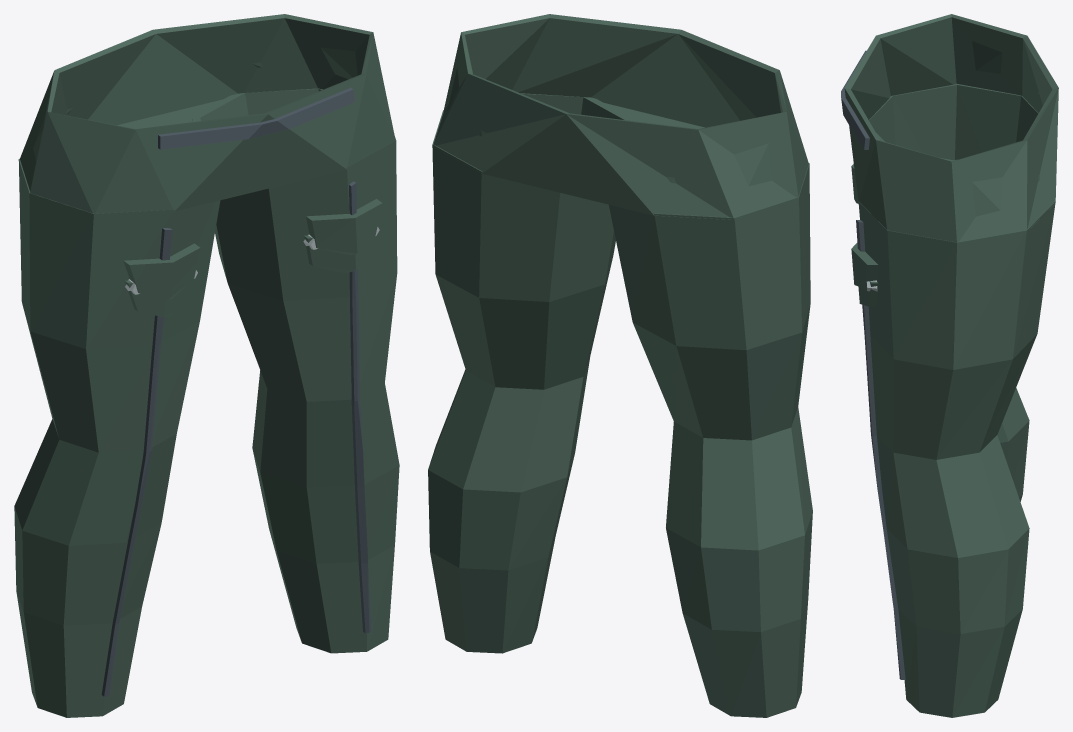
The model's file is studded_legs-female-scaledHide.glb.
3 renders of one model, left to right at view 1: azimuth 30°, elevation 25°; view 2: azimuth 150°, elevation 25°; view 3: azimuth 270°, elevation 25°, orthographic. The views are drawn at different scales.
Visible parts, largest first — view 1: studded trouser leg -1, studded trouser leg 1, studded trouser pelvis yoke, Trouser reinforced front seam 1, Trouser reinforced front seam -1, Trouser waist facing, Lapped hide reinforcement studded trouser leg 1 0, Lapped hide reinforcement studded trouser leg -1 0, Lapped hide reinforcement studded trouser leg 1 1, Lapped hide reinforcement studded trouser leg -1 1; view 2: studded trouser leg -1, studded trouser leg 1, studded trouser pelvis yoke; view 3: studded trouser leg 1, studded trouser pelvis yoke, studded trouser leg -1, Trouser reinforced front seam 1, Lapped hide reinforcement studded trouser leg 1 0, Trouser waist facing, Lapped hide reinforcement studded trouser leg 1 1.
Part boxes in pixels (bbox=[...]): studded trouser leg -1: bbox=[14, 127, 220, 717]; studded trouser leg 1: bbox=[191, 88, 399, 653]; studded trouser pelvis yoke: bbox=[20, 14, 395, 213]; Trouser reinforced front seam 1: bbox=[349, 181, 371, 633]; Trouser reinforced front seam -1: bbox=[101, 228, 172, 696]; Trouser waist facing: bbox=[158, 88, 354, 149]; Lapped hide reinforcement studded trouser leg 1 0: bbox=[306, 199, 382, 255]; Lapped hide reinforcement studded trouser leg -1 0: bbox=[123, 243, 200, 299]; Lapped hide reinforcement studded trouser leg 1 1: bbox=[304, 222, 378, 273]; Lapped hide reinforcement studded trouser leg -1 1: bbox=[125, 265, 197, 317]; studded trouser leg -1: bbox=[609, 163, 812, 717]; studded trouser leg 1: bbox=[428, 93, 636, 653]; studded trouser pelvis yoke: bbox=[433, 14, 808, 220]; studded trouser leg 1: bbox=[858, 159, 1055, 717]; studded trouser pelvis yoke: bbox=[844, 14, 1058, 242]; studded trouser leg -1: bbox=[869, 83, 1038, 501]; Trouser reinforced front seam 1: bbox=[856, 220, 905, 679]; Lapped hide reinforcement studded trouser leg 1 0: bbox=[851, 243, 878, 288]; Trouser waist facing: bbox=[841, 50, 869, 149]; Lapped hide reinforcement studded trouser leg 1 1: bbox=[858, 281, 878, 306].
Bounding box in the file's own units: 2.24 × 3.45 × 1.23.
